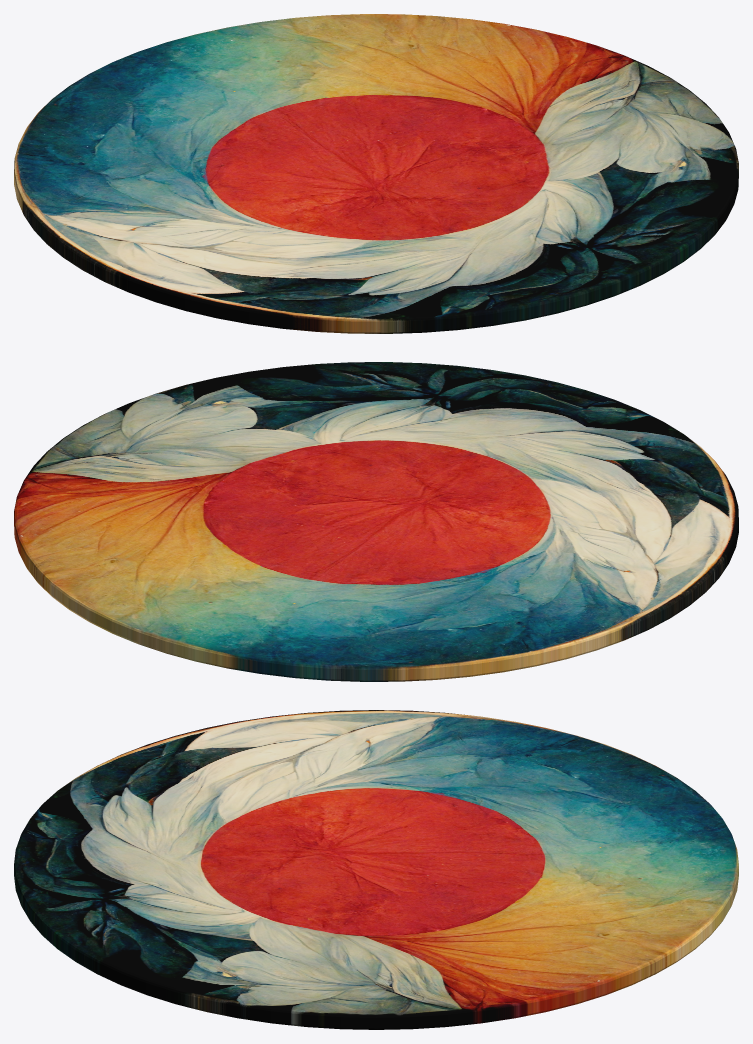
The model's file is Broken Record PlaceHolder2.fbx.
The picture shows the model from 3 angles, top to bottom: view 1: azimuth 30°, elevation 25°; view 2: azimuth 150°, elevation 25°; view 3: azimuth 270°, elevation 25°; orthographic projection.
Visible parts, largest first — view 1: Record Pieces.003, Record Pieces, Record Pieces.001, Record Pieces.002; view 2: Record Pieces.003, Record Pieces, Record Pieces.001, Record Pieces.002; view 3: Record Pieces.003, Record Pieces, Record Pieces.001, Record Pieces.002.
Part boxes in pixels (x1,y1,x2,y2): Record Pieces.003: (301, 14, 738, 214); Record Pieces: (14, 14, 354, 249); Record Pieces.001: (274, 178, 737, 333); Record Pieces.002: (53, 214, 300, 327); Record Pieces.003: (14, 376, 513, 612); Record Pieces: (73, 517, 679, 681); Record Pieces.001: (223, 362, 727, 517); Record Pieces.002: (514, 478, 738, 612); Record Pieces.003: (171, 810, 700, 1029); Record Pieces: (315, 710, 738, 944); Record Pieces.001: (14, 752, 314, 1002); Record Pieces.002: (128, 710, 394, 809).
Size of the model in its own units: 25 by 0.6 by 25.
